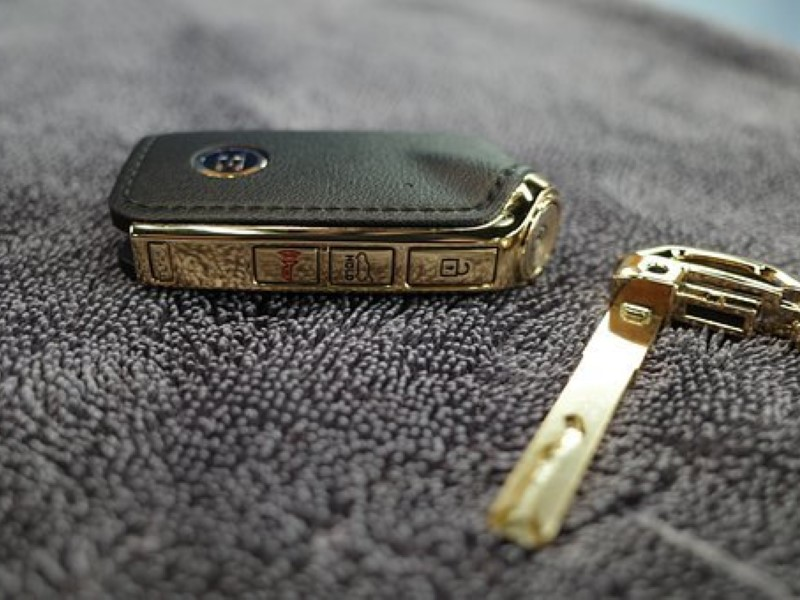carkey: (101, 122, 570, 299)
